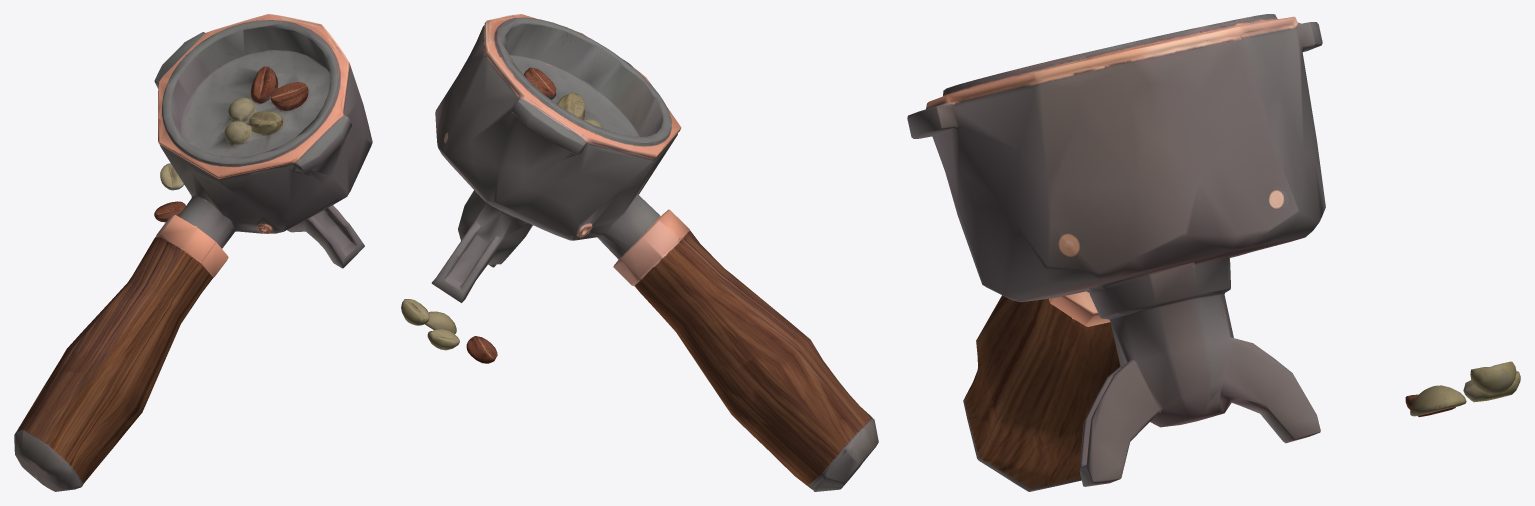
The model's file is portafilter.glb.
3 views of the same model, side by side, from view 1: azimuth 30°, elevation 25°; view 2: azimuth 150°, elevation 25°; view 3: azimuth 270°, elevation 25° (orthographic). The views are drawn at different scales.
Visible parts, largest first — view 1: Mesh1.0; view 2: Mesh1.0; view 3: Mesh1.0.
Boxes of the visible parts, box(x1,y1,x2,y2) form: Mesh1.0: box(14, 14, 372, 491); Mesh1.0: box(401, 14, 878, 491); Mesh1.0: box(907, 14, 1520, 491).
Bounding box in the file's own units: 1.57 × 1.55 × 1.24.
Materials: 1 (1 with a texture image).
